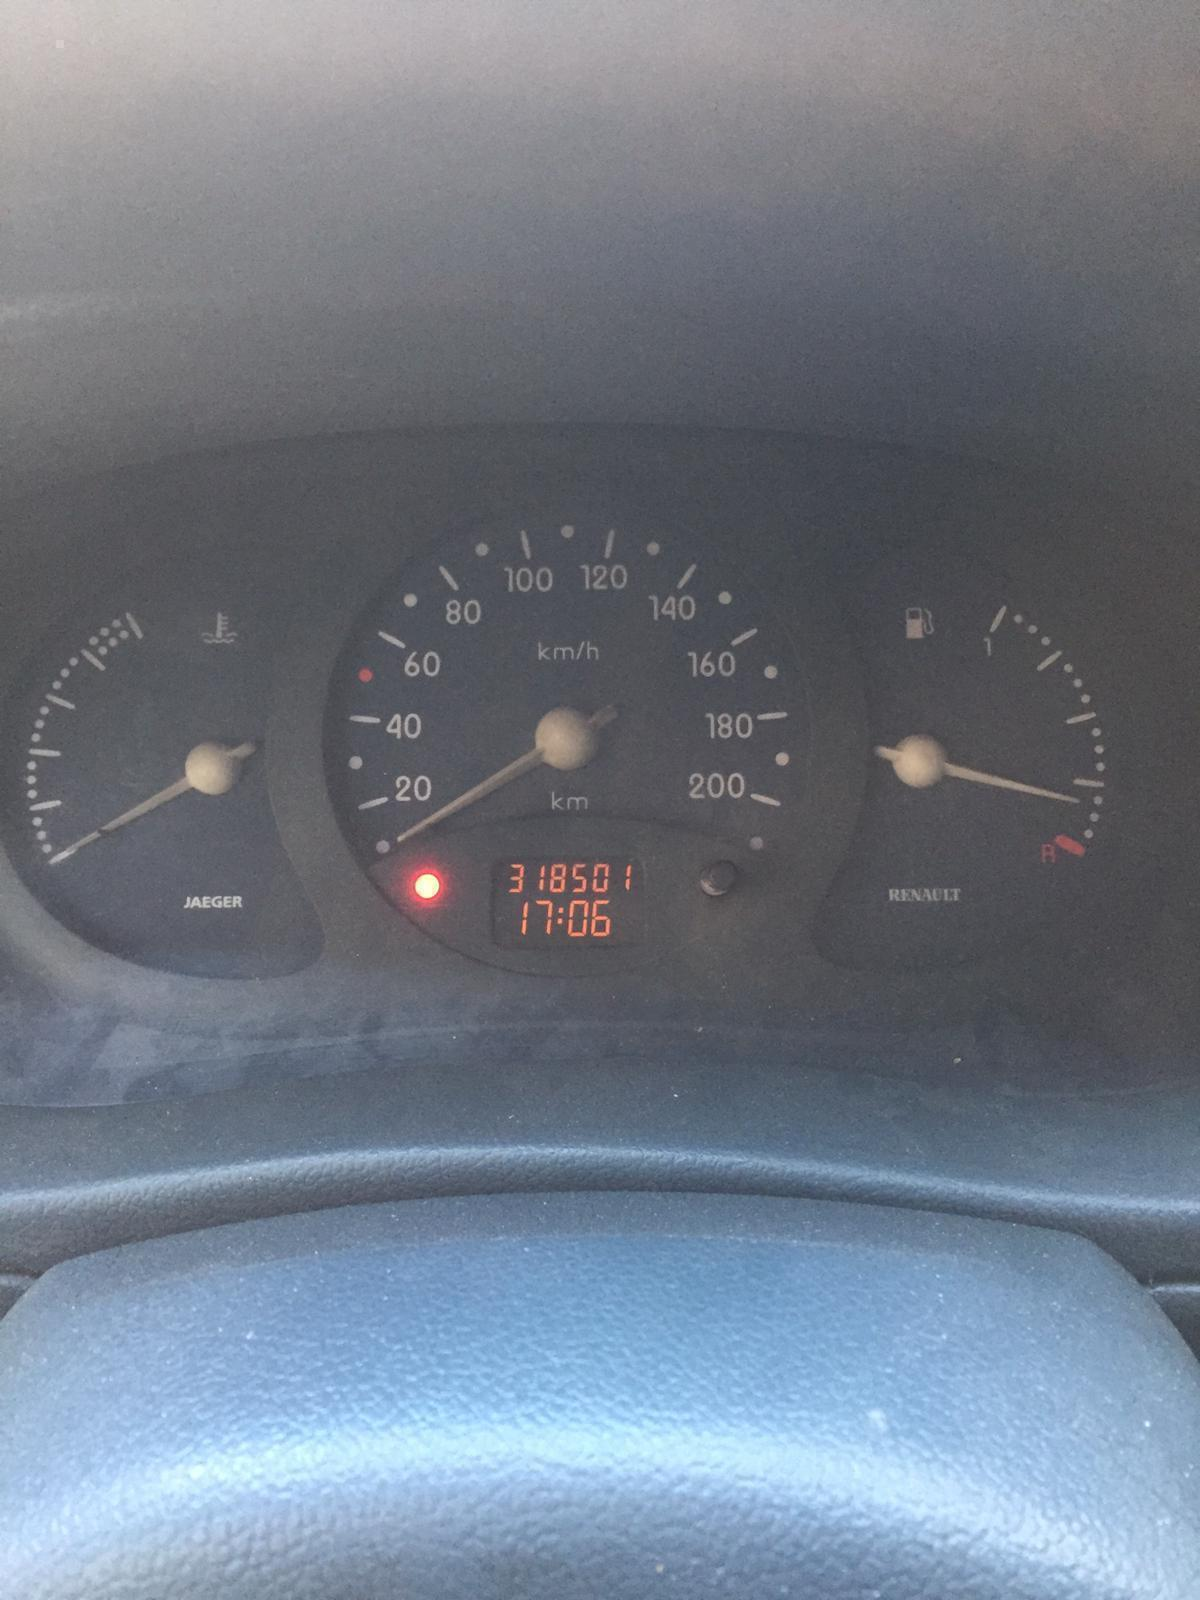0: (567, 900, 589, 937), (592, 863, 609, 893)
1: (521, 901, 529, 936), (623, 863, 632, 891), (538, 864, 545, 891)
3: (507, 863, 524, 892)
5: (570, 863, 587, 892)
6: (590, 900, 611, 937)
7: (534, 900, 553, 935)
8: (548, 863, 566, 893)
X: (557, 906, 563, 925)
odometer: (487, 850, 650, 950)
